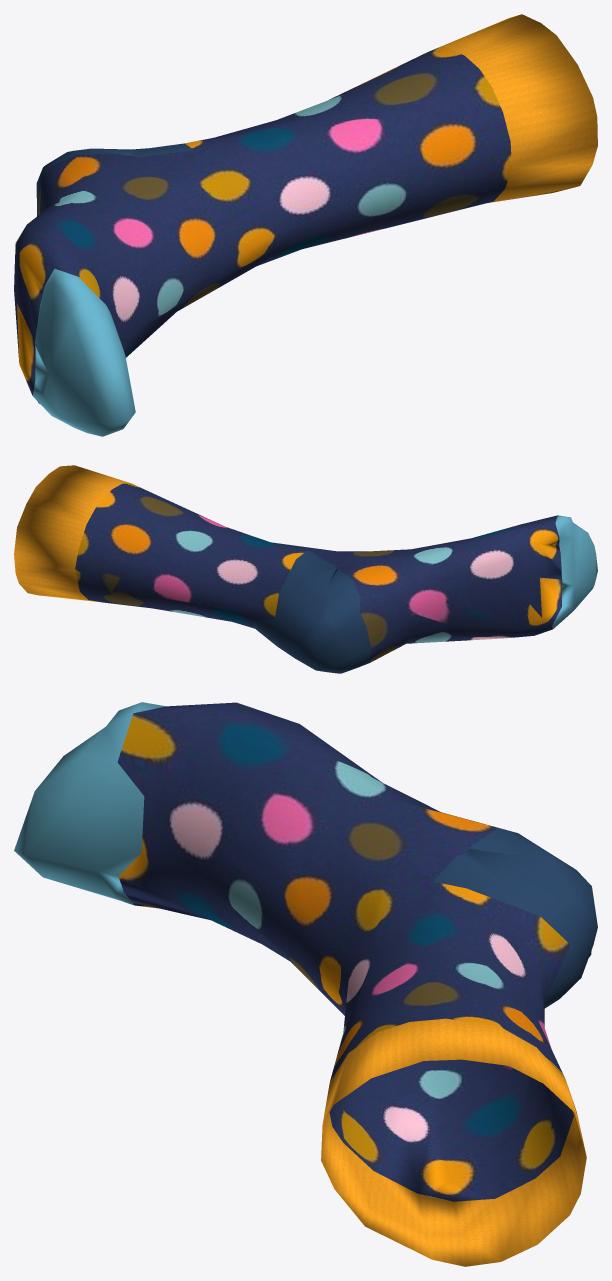
Rendered from toy_sock_dots.glb.
The picture shows the model from 3 angles, top to bottom: view 1: azimuth 30°, elevation 25°; view 2: azimuth 150°, elevation 25°; view 3: azimuth 270°, elevation 25°; orthographic projection. The views are drawn at different scales.
Parts seen in each view (by area): view 1: toy_sock_dots; view 2: toy_sock_dots; view 3: toy_sock_dots.
Part boxes in pixels (left/top/right/bottom): toy_sock_dots: left=14, top=14, right=597, bottom=436; toy_sock_dots: left=14, top=465, right=597, bottom=673; toy_sock_dots: left=14, top=702, right=597, bottom=1266.
Size of the model in its own units: 8.07 by 2.07 by 5.28.
4 materials, 4 textured.
